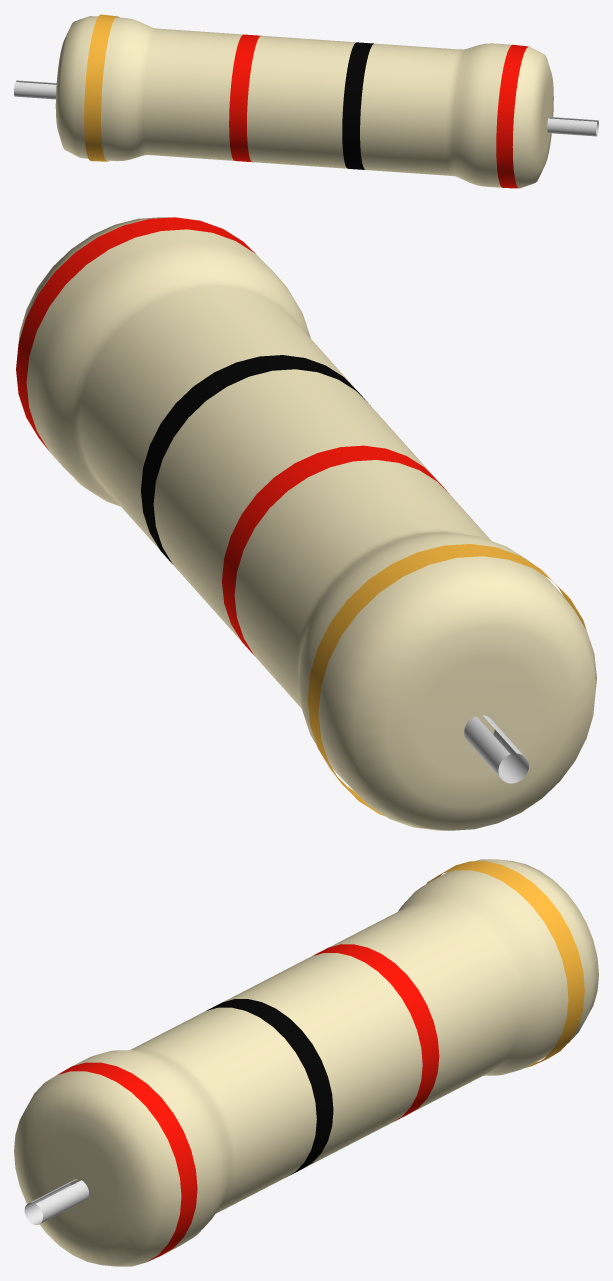
The model's file is Register.fbx.
The picture shows the model from 3 angles, top to bottom: view 1: azimuth 30°, elevation 25°; view 2: azimuth 150°, elevation 25°; view 3: azimuth 270°, elevation 25°; orthographic projection. The views are drawn at different scales.
Visible parts, largest first — view 1: Cylinder.164; view 2: Cylinder.164; view 3: Cylinder.164.
Part boxes in pixels (left/top/right/bottom): Cylinder.164: left=14, top=14, right=598, bottom=188; Cylinder.164: left=16, top=217, right=596, bottom=830; Cylinder.164: left=14, top=859, right=598, bottom=1266.
Size of the model in its own units: 50.48 by 15.89 by 43.33.
